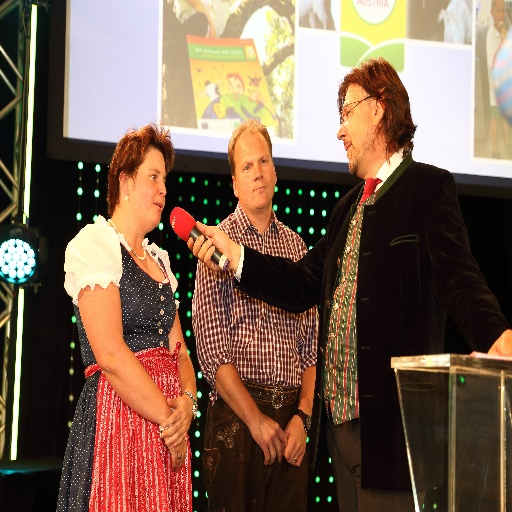hand: (182, 222, 238, 266), (251, 413, 287, 468), (160, 392, 194, 449), (280, 415, 307, 467), (163, 436, 187, 474), (487, 327, 511, 356), (500, 27, 506, 41)
